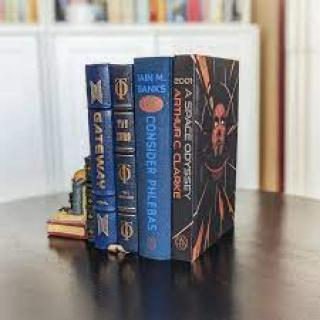book-spine: (166, 55, 239, 262), (131, 58, 173, 260), (83, 62, 115, 252), (109, 64, 138, 257)
